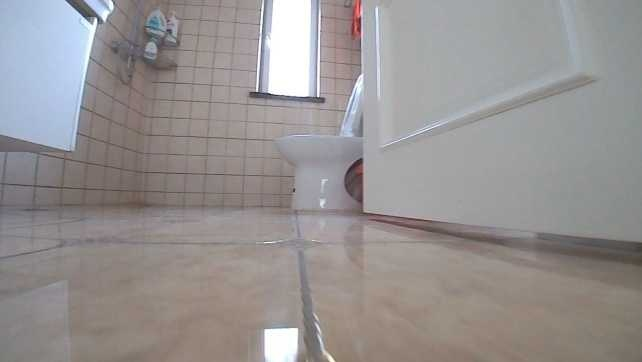door_anno: (355, 0, 641, 243)
toilet: (270, 73, 365, 212)
